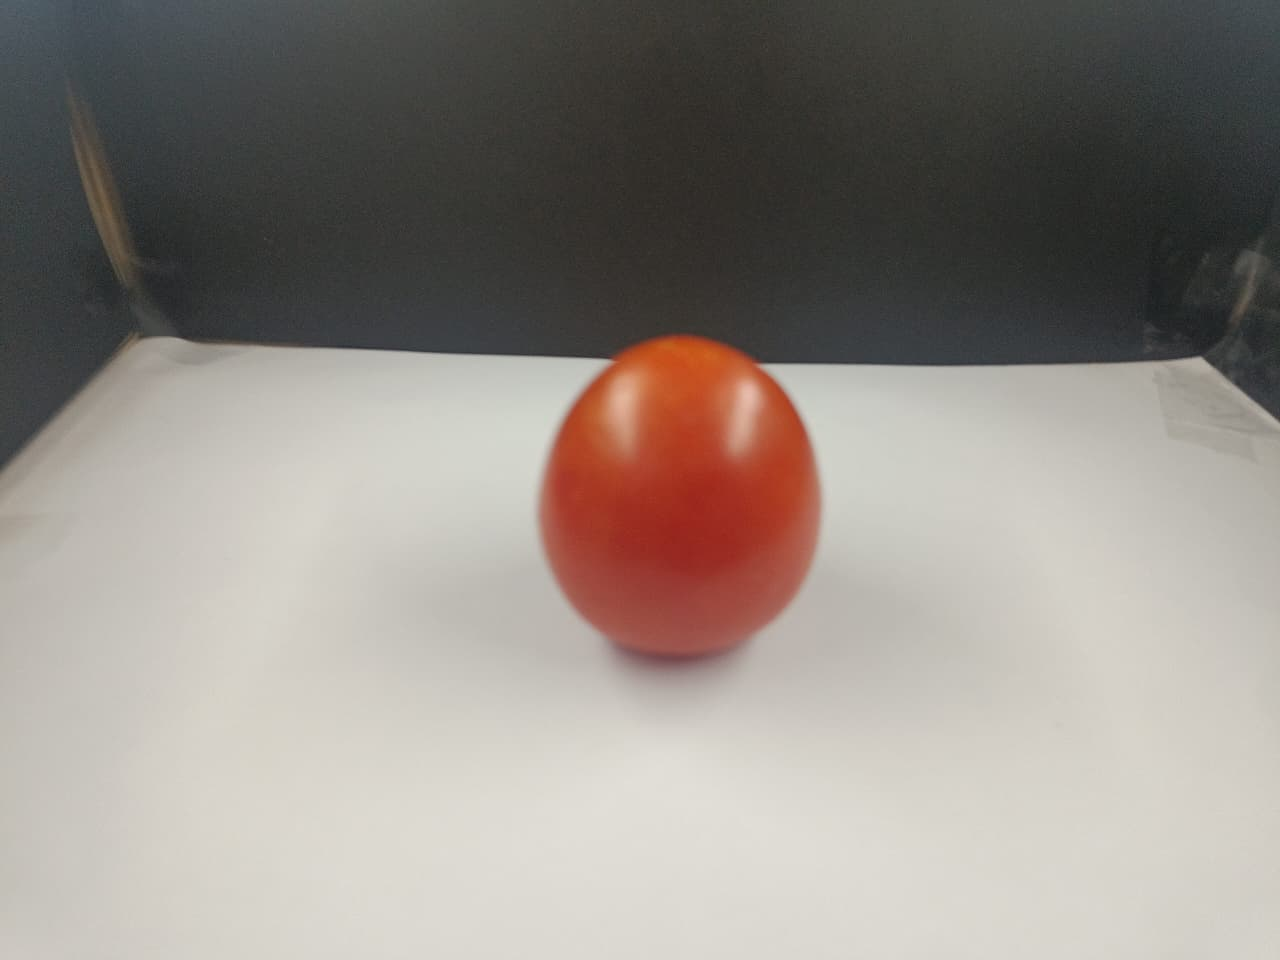ripe: (529, 338, 824, 648)
